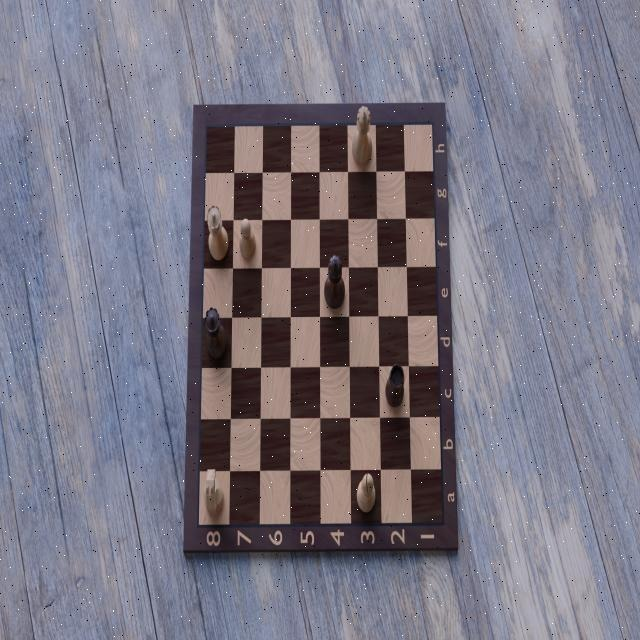black-king: (323, 248, 348, 311)
black-queen: (203, 302, 229, 362)
black-rook: (384, 361, 406, 410)
white-bishop: (354, 472, 377, 516)
white-king: (351, 107, 373, 169)
white-knight: (203, 466, 225, 518)
white-pawn: (237, 212, 259, 263)
white-queen: (206, 202, 230, 262)
